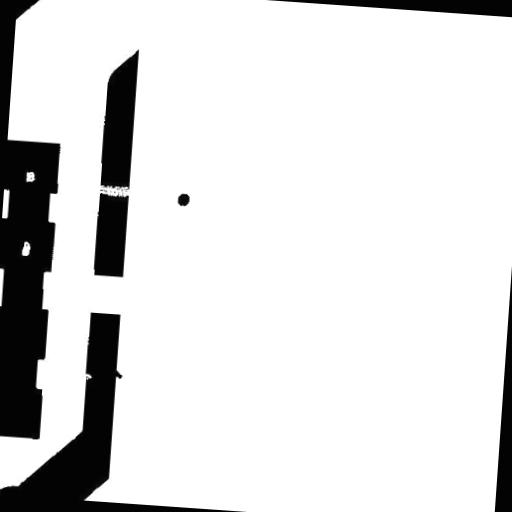copper: (169, 186, 197, 214)
mousebite: (76, 365, 100, 388)
open: (82, 176, 140, 205)
pin-hole: (14, 233, 38, 264), (18, 164, 44, 190)
spur: (104, 360, 131, 386)
